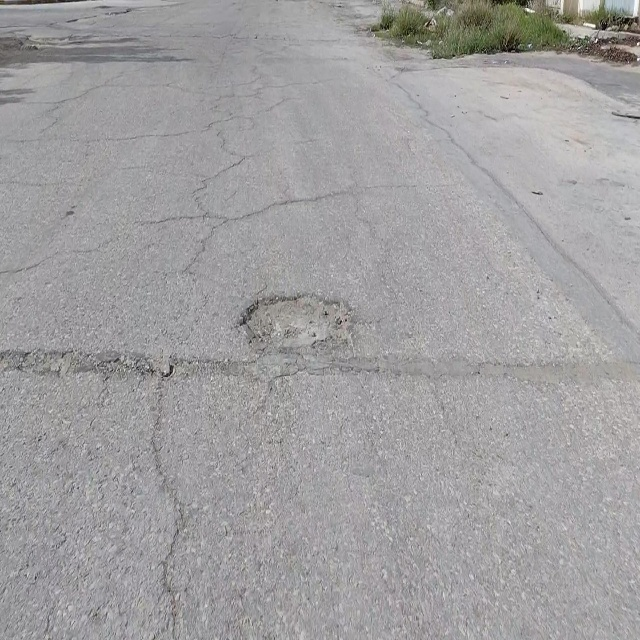pothole: (237, 286, 353, 358)
